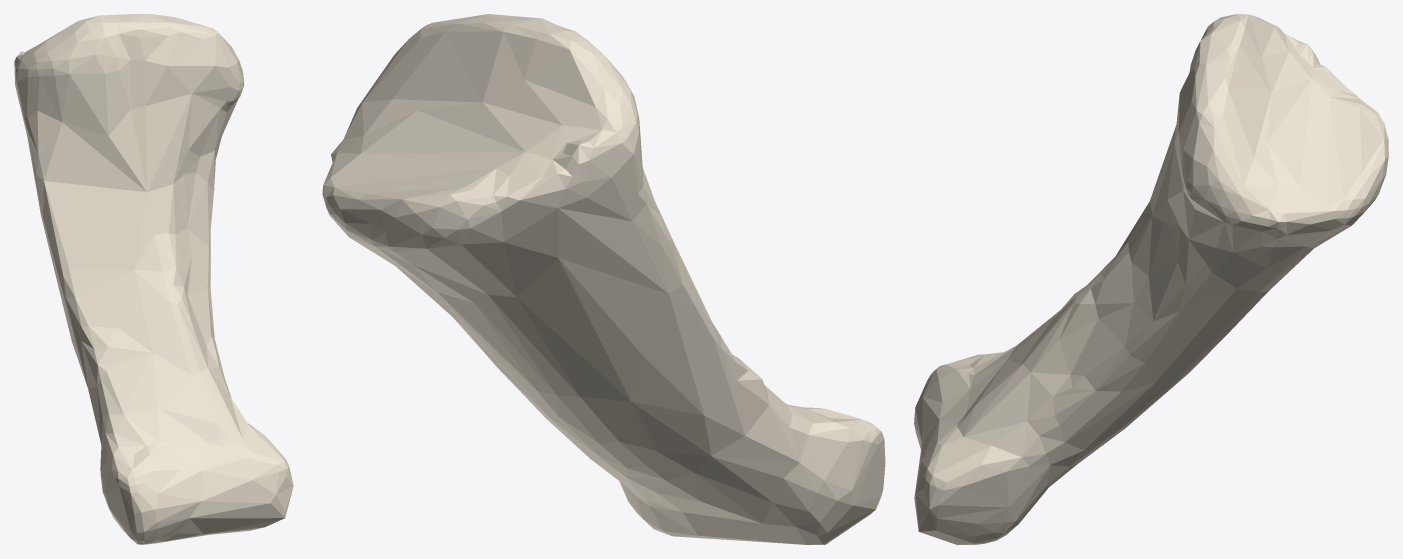
The model's file is left_little_middle_phalanx.glb.
3 views of the same model, side by side, from view 1: azimuth 30°, elevation 25°; view 2: azimuth 150°, elevation 25°; view 3: azimuth 270°, elevation 25° (orthographic). The views are drawn at different scales.
Visible parts, largest first — view 1: left_little_middle_phalanx; view 2: left_little_middle_phalanx; view 3: left_little_middle_phalanx.
Part boxes in pixels (<box>): left_little_middle_phalanx: <box>14,14,293,544</box>; left_little_middle_phalanx: <box>322,14,885,544</box>; left_little_middle_phalanx: <box>914,14,1388,544</box>.
Bounding box in the file's own units: 0.0116 × 0.0198 × 0.0168.
